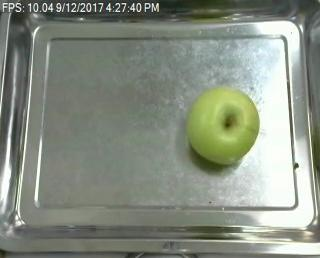fruit: (186, 81, 258, 163)
